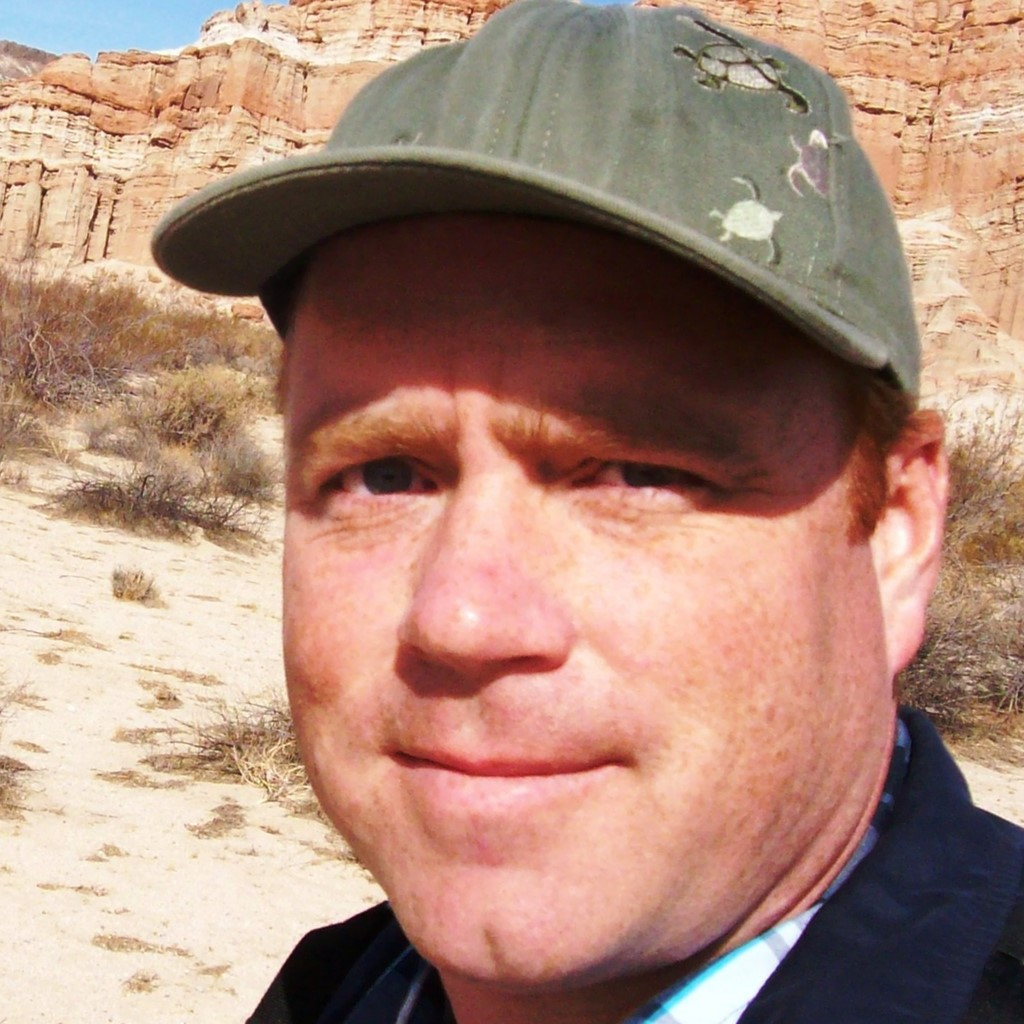sin_mascara: (279, 140, 916, 956)
